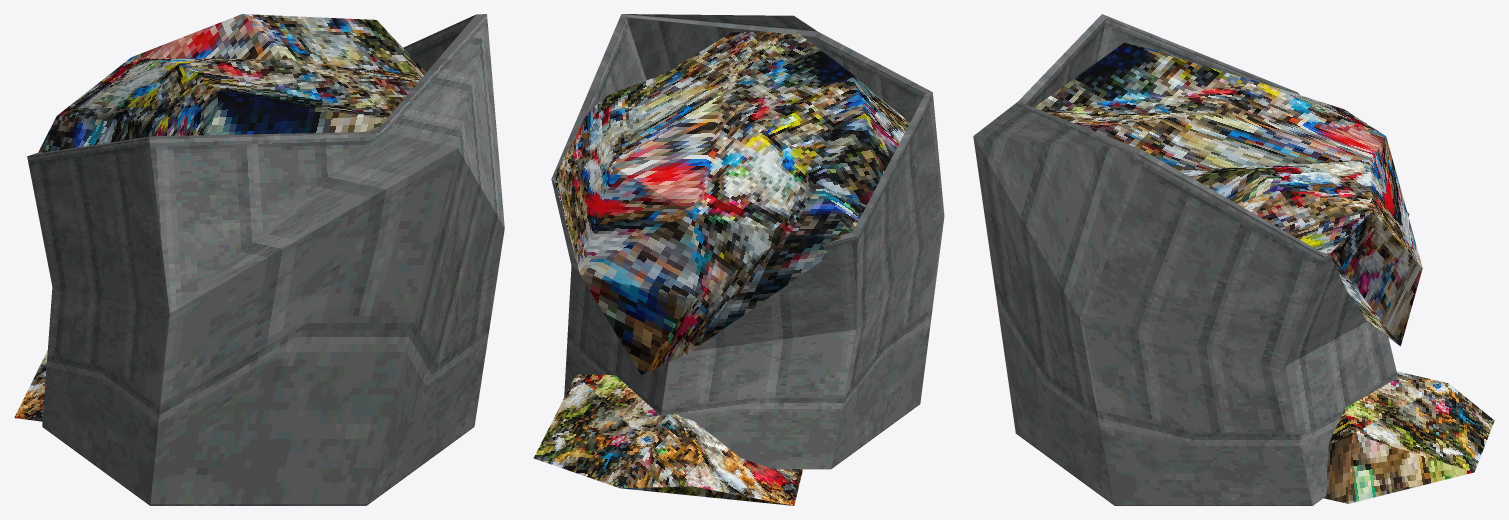
Rendered from metaltrashcan_beaten_alt_overflowing.glb.
The picture shows the model from 3 angles, left to right: view 1: azimuth 30°, elevation 25°; view 2: azimuth 150°, elevation 25°; view 3: azimuth 270°, elevation 25°; orthographic projection. The views are drawn at different scales.
Visible parts, largest first — view 1: metaltrashcan_beaten_alt_overflowing; view 2: metaltrashcan_beaten_alt_overflowing; view 3: metaltrashcan_beaten_alt_overflowing.
Boxes of the visible parts, box(x1,y1,x2,y2) form: metaltrashcan_beaten_alt_overflowing: box(14, 14, 504, 505); metaltrashcan_beaten_alt_overflowing: box(533, 14, 944, 505); metaltrashcan_beaten_alt_overflowing: box(973, 14, 1494, 505).
Bounding box in the file's own units: 0.7592 × 0.8115 × 1.
3 materials, 3 textured.
